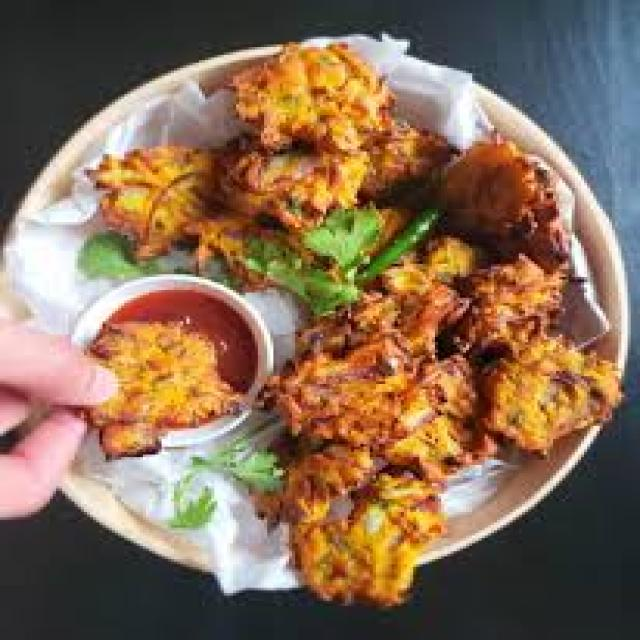BAJI: (78, 48, 621, 614)
